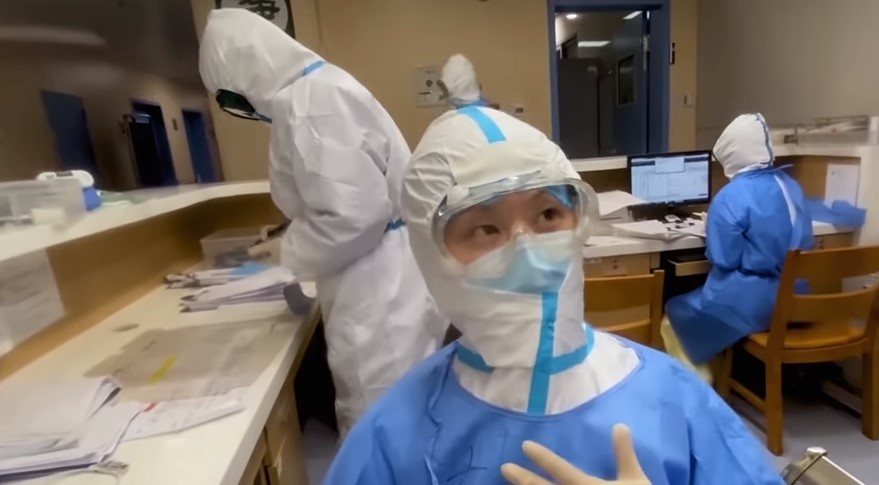face_with_mask: (405, 107, 598, 327)
